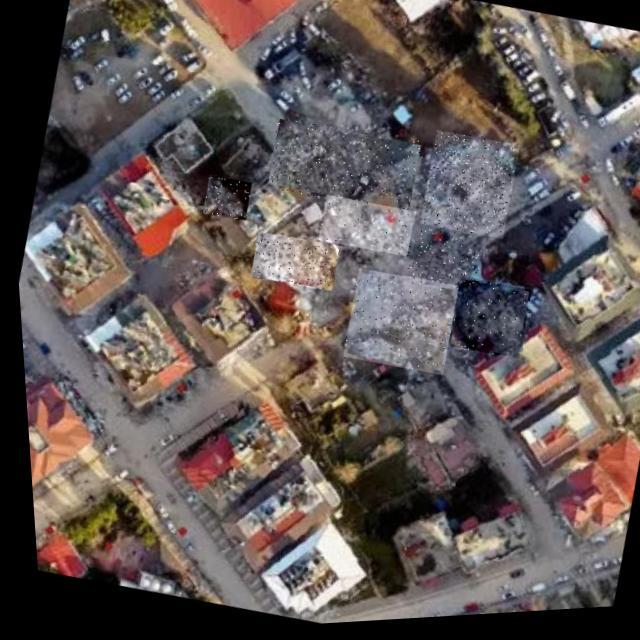Rubble: (258, 110, 425, 227), (333, 267, 458, 385), (412, 131, 521, 248), (438, 279, 530, 368), (312, 194, 415, 265), (395, 226, 484, 300), (243, 230, 338, 298), (197, 175, 251, 226)
